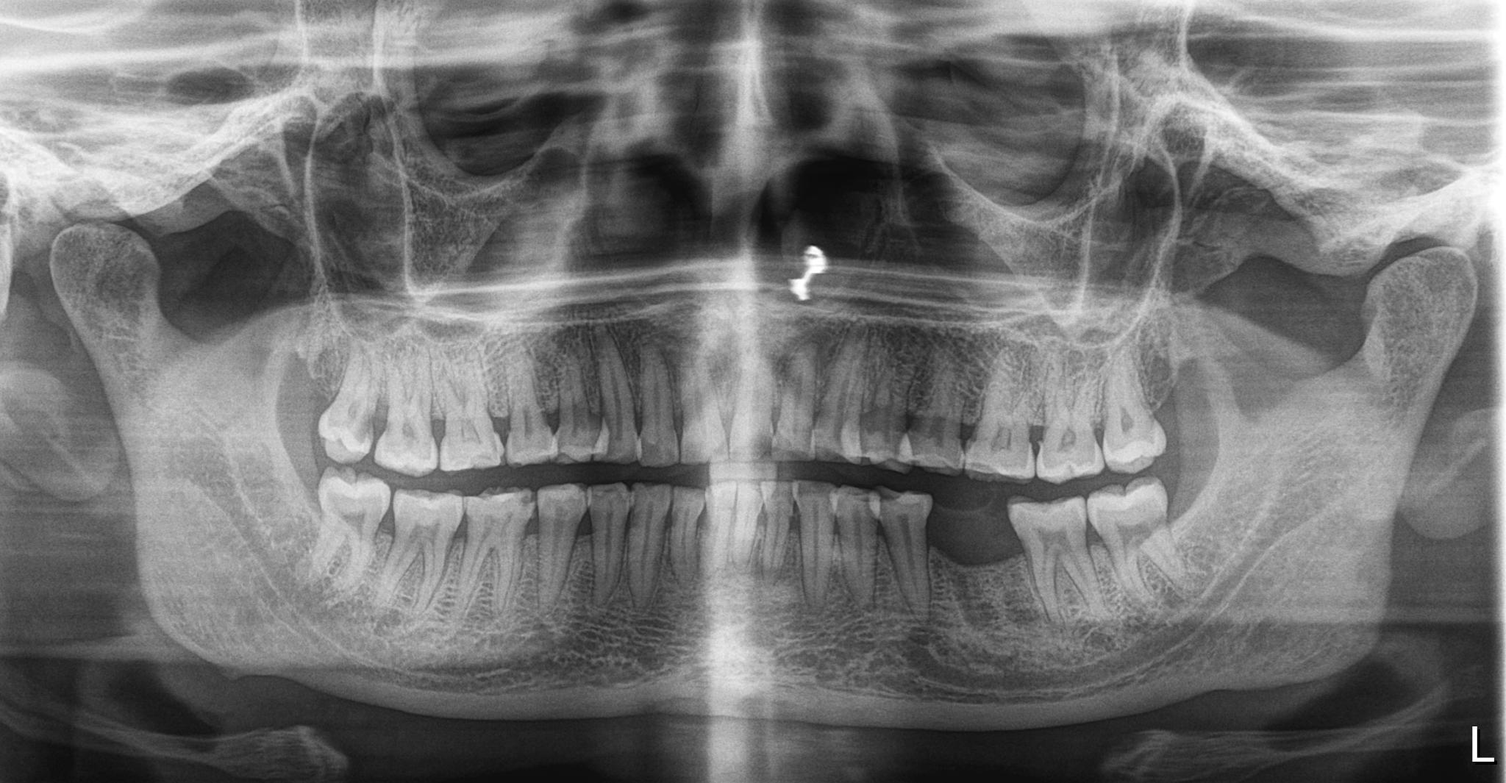Dental Caries: (506, 507, 605, 550), (353, 397, 408, 454)
Missing Tooth: (938, 498, 1011, 617)
